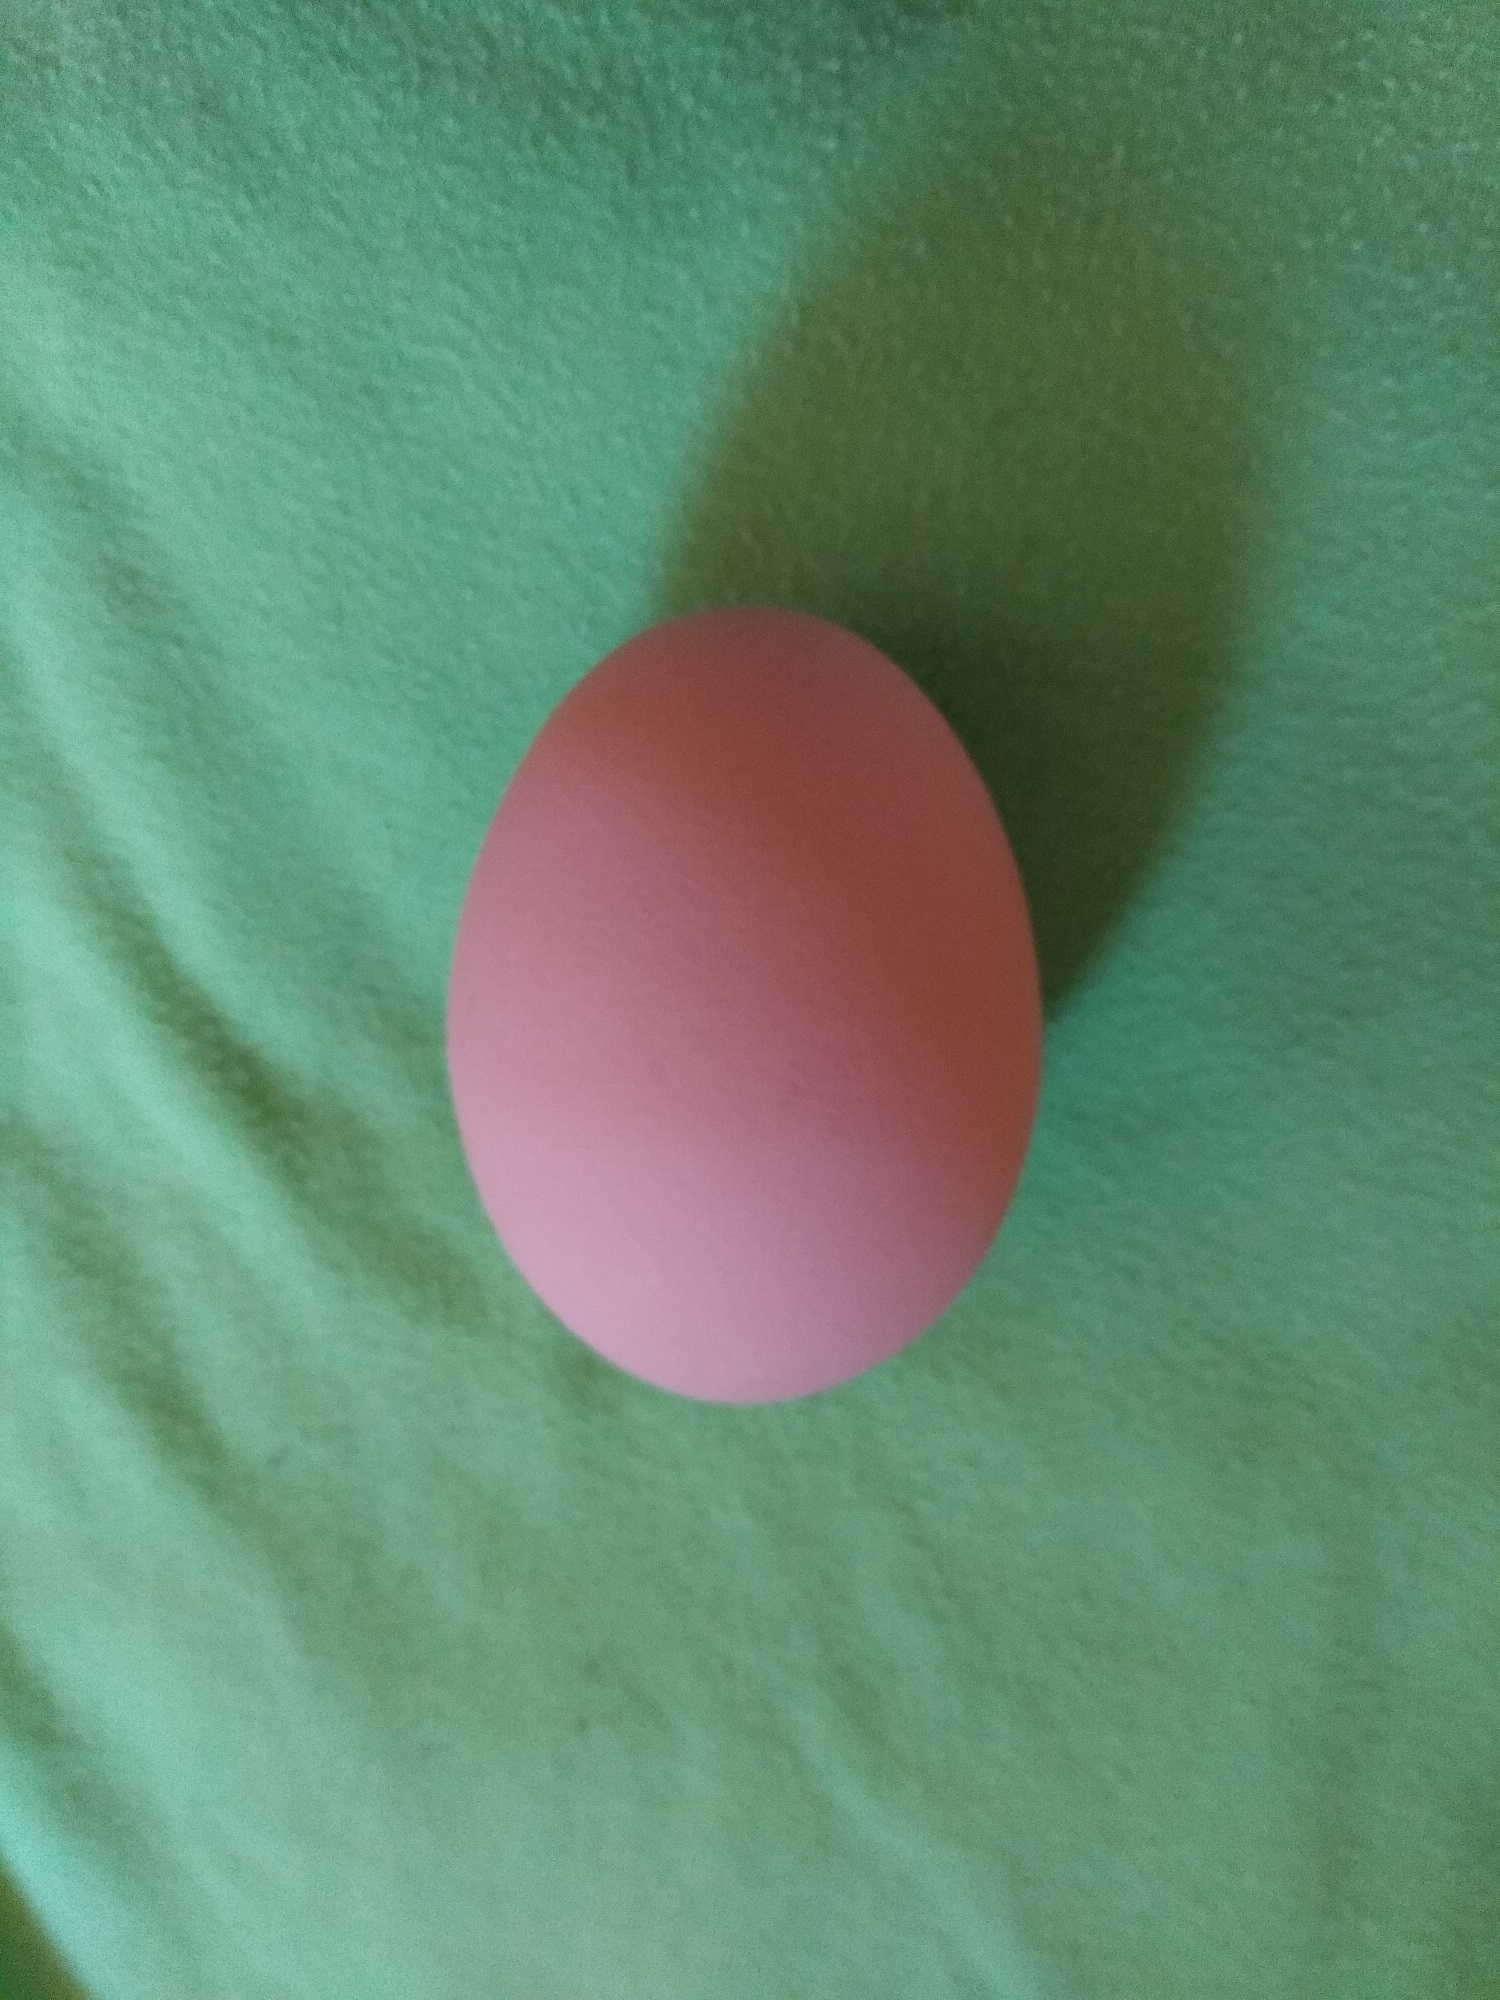Female: (440, 591, 1053, 1417)
